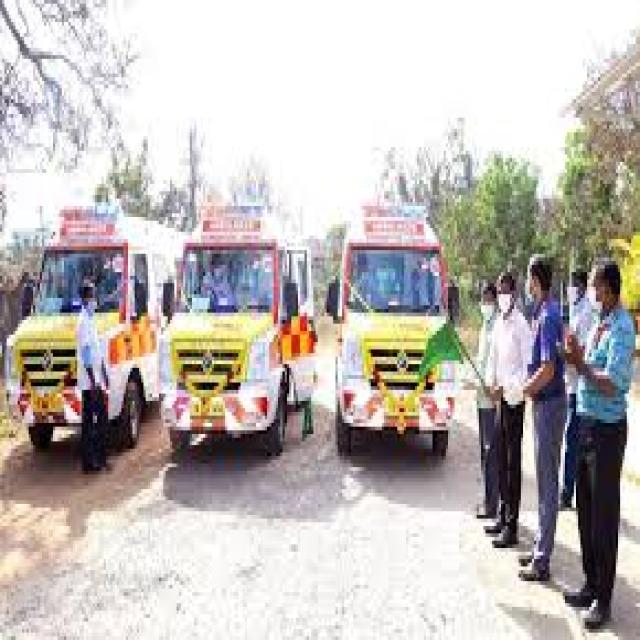ambulance: (5, 201, 182, 447), (155, 200, 315, 458), (338, 201, 452, 457)
